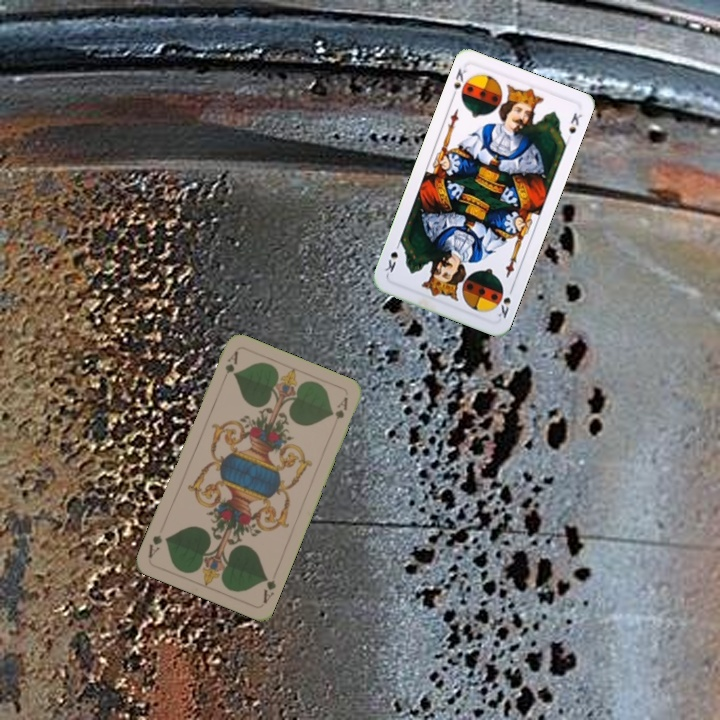GA: (259, 572, 279, 606), (221, 347, 241, 376)
SK: (494, 282, 516, 321), (447, 64, 469, 102)
